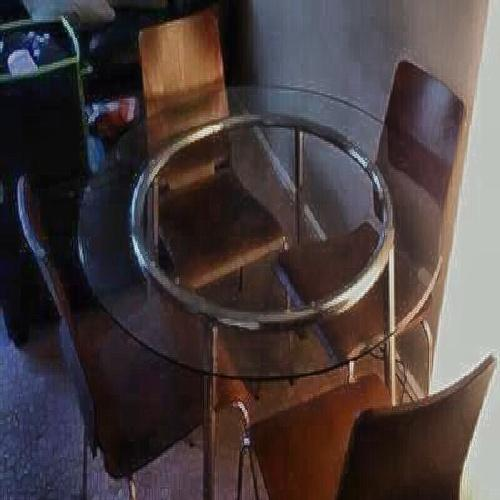table: (98, 92, 440, 387)
